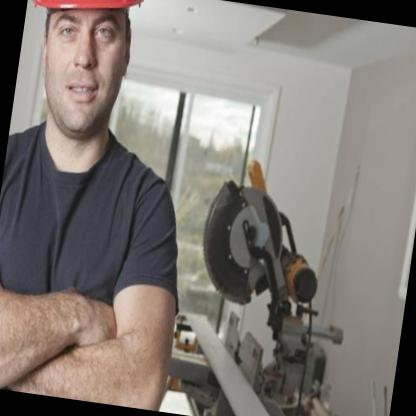helmet: (9, 0, 158, 147)
